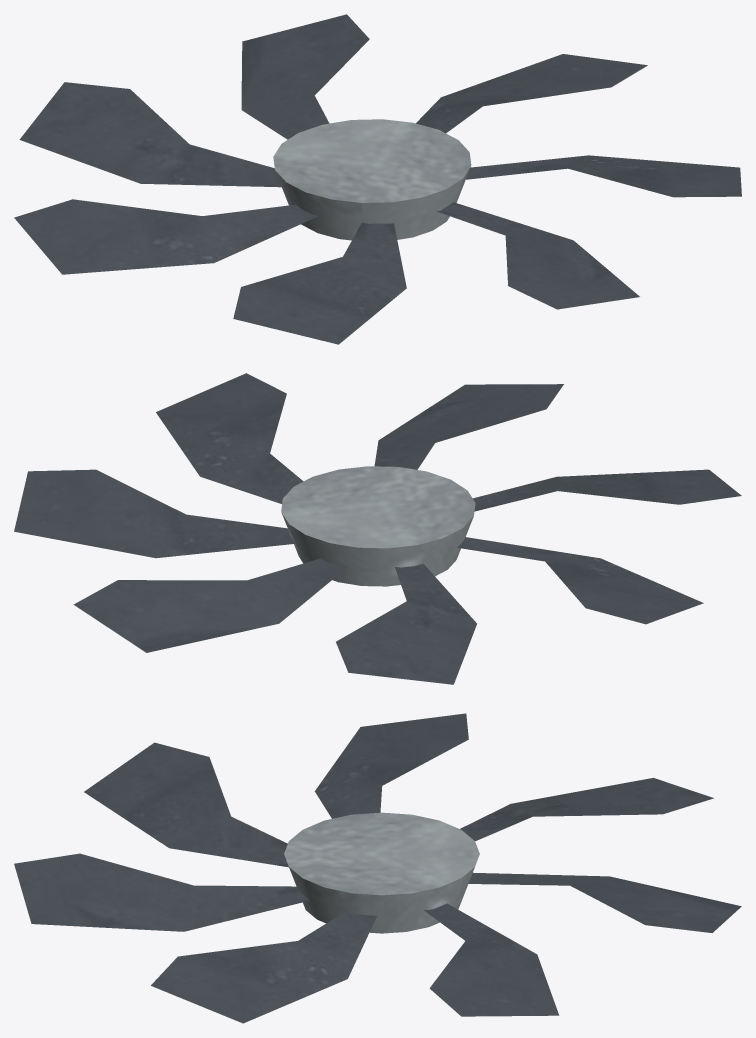
Rendered from prop_blower_rotor.fbx.
3 views of the same model, one above another, from view 1: azimuth 30°, elevation 25°; view 2: azimuth 150°, elevation 25°; view 3: azimuth 270°, elevation 25° (orthographic).
Parts seen in each view (by area): view 1: SM_prop_blower_rotor; view 2: SM_prop_blower_rotor; view 3: SM_prop_blower_rotor.
Part boxes in pixels (bbox=[...]): SM_prop_blower_rotor: bbox=[14, 14, 741, 344]; SM_prop_blower_rotor: bbox=[14, 373, 741, 684]; SM_prop_blower_rotor: bbox=[14, 713, 741, 1023].
Bounding box in the file's own units: 0.2439 × 0.017 × 0.2453.
2 materials, 2 textured.
